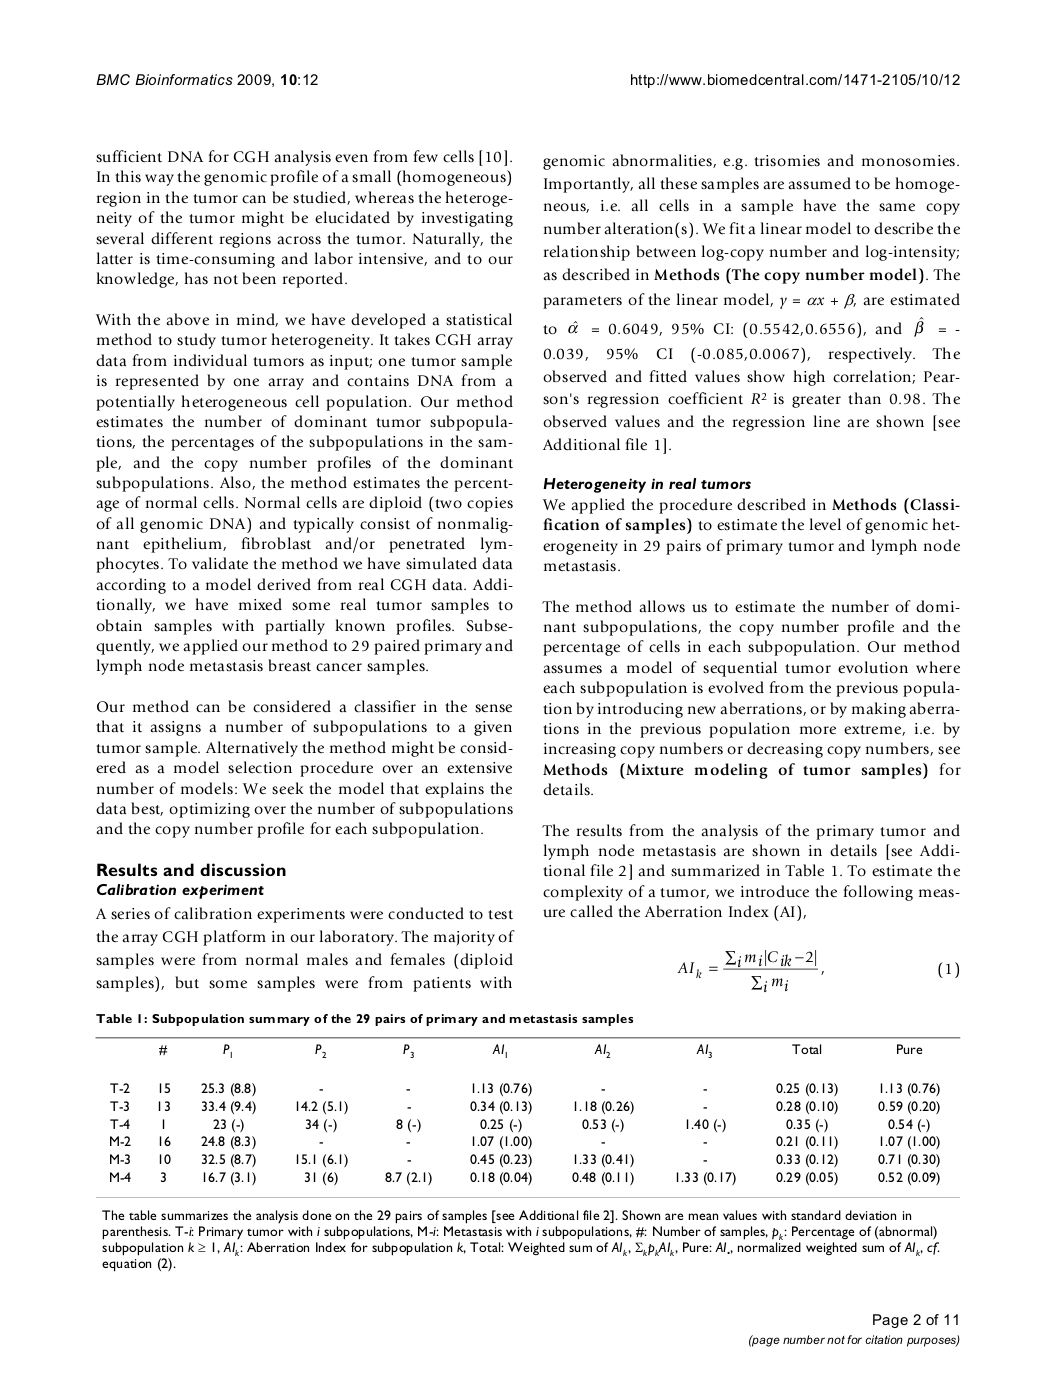Table: (95, 1038, 960, 1197)
formula: (676, 950, 958, 993)
